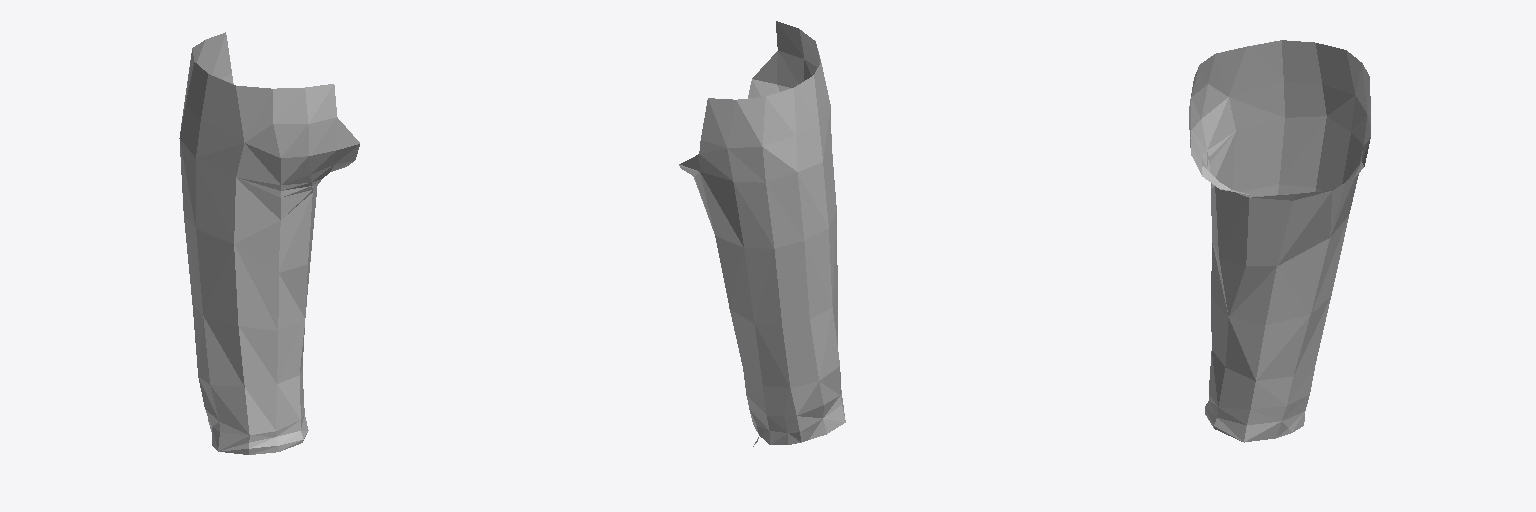
Rendered from pIzqJames.obj.
3 renders of one model, left to right at view 1: azimuth 30°, elevation 25°; view 2: azimuth 150°, elevation 25°; view 3: azimuth 270°, elevation 25°, orthographic.
Parts seen in each view (by area): view 1: L_Hip, Pierna_Izq_James_Mat, L_Knee, Center, Hips; view 2: L_Hip, Pierna_Izq_James_Mat, L_Knee, Center, Hips; view 3: L_Hip, Pierna_Izq_James_Mat, L_Knee, Hips, Center.
Part boxes in pixels (x1,y1,x2,y2): L_Hip: (179, 63, 321, 434); Pierna_Izq_James_Mat: (180, 32, 280, 184); L_Knee: (205, 385, 308, 454); Center: (273, 84, 336, 156); Hips: (281, 117, 359, 184); L_Hip: (679, 48, 840, 415); Pierna_Izq_James_Mat: (701, 88, 831, 171); L_Knee: (746, 390, 845, 446); Center: (776, 21, 820, 83); Hips: (748, 51, 811, 97); L_Hip: (1202, 40, 1370, 408); Pierna_Izq_James_Mat: (1202, 43, 1370, 149); L_Knee: (1205, 351, 1309, 442); Hips: (1189, 99, 1343, 200); Center: (1189, 54, 1214, 124).
Bounding box in the file's own units: 15.13 × 46.84 × 19.79.